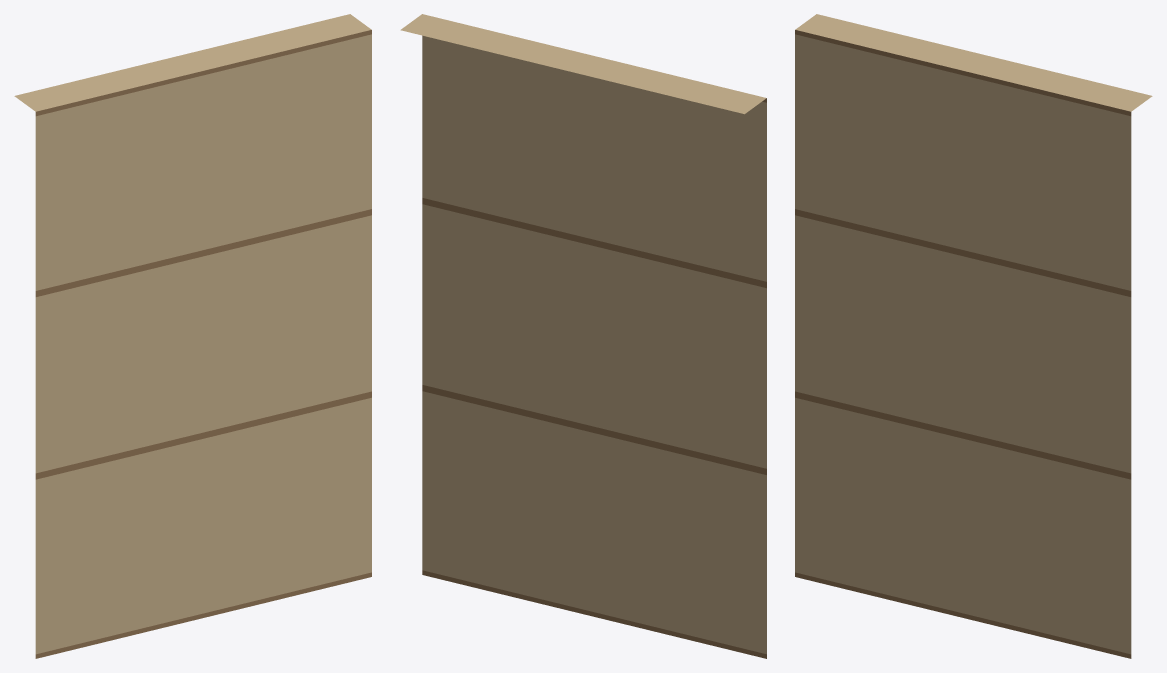
File: M_WallTile225-1Biege80.FBX
3 renders of one model, left to right at view 1: azimuth 30°, elevation 25°; view 2: azimuth 150°, elevation 25°; view 3: azimuth 330°, elevation 25°, orthographic. The views are drawn at different scales.
Parts seen in each view (by area): view 1: M_WallTile225-1Biege80; view 2: M_WallTile225-1Biege80; view 3: M_WallTile225-1Biege80.
Part boxes in pixels (x1=…): M_WallTile225-1Biege80: x1=14, y1=14, x2=371, y2=658; M_WallTile225-1Biege80: x1=400, y1=14, x2=766, y2=658; M_WallTile225-1Biege80: x1=795, y1=14, x2=1152, y2=658.
Size of the model in its own units: 2.25 by 3.5 by 0.25.
